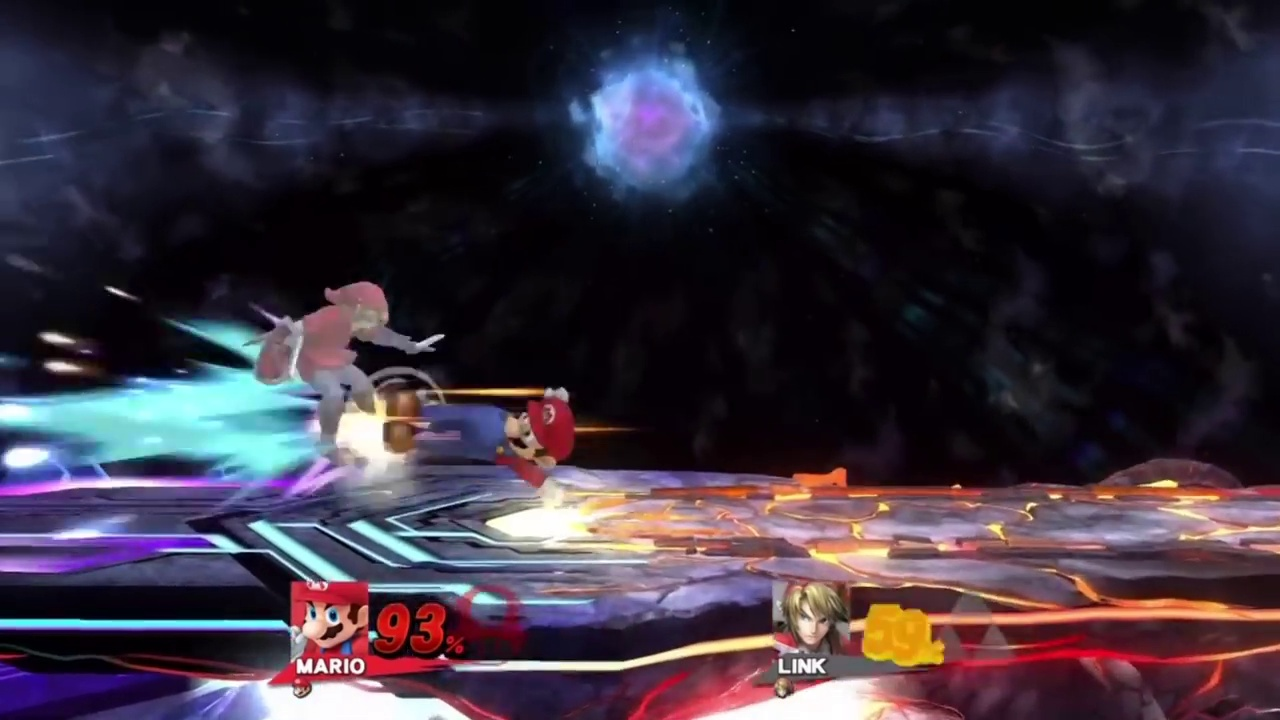Mario: (387, 386, 577, 508)
